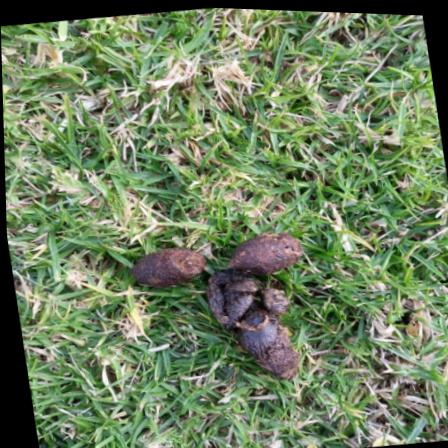dog-poop: (117, 209, 341, 409)
